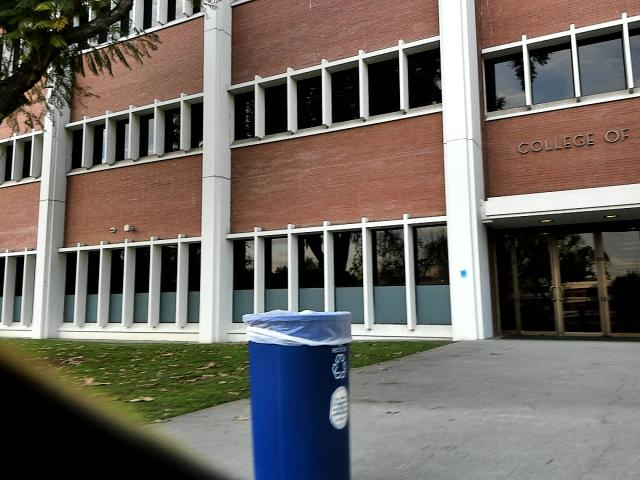trashcan_open: (236, 304, 358, 480)
